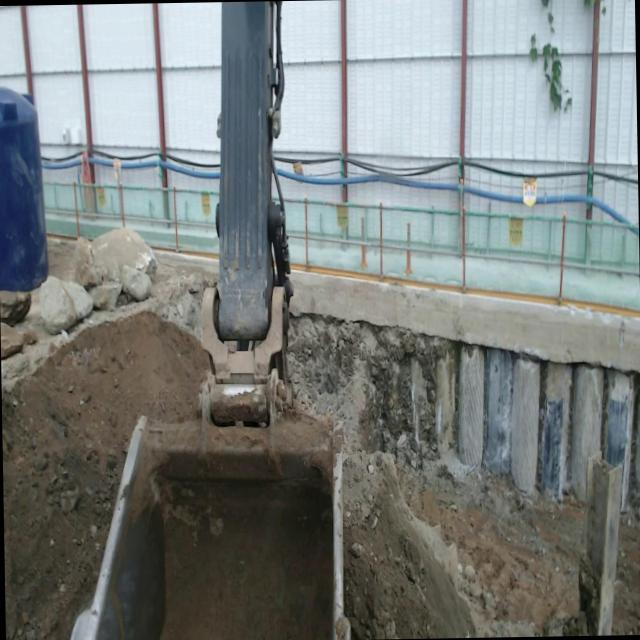red-sand: (1, 311, 206, 640)
stone: (28, 275, 93, 332), (91, 228, 157, 281), (61, 237, 101, 287), (120, 265, 152, 300), (0, 290, 31, 325), (0, 322, 25, 359), (88, 281, 121, 309)
white-sand: (343, 433, 594, 640), (611, 515, 640, 635)
